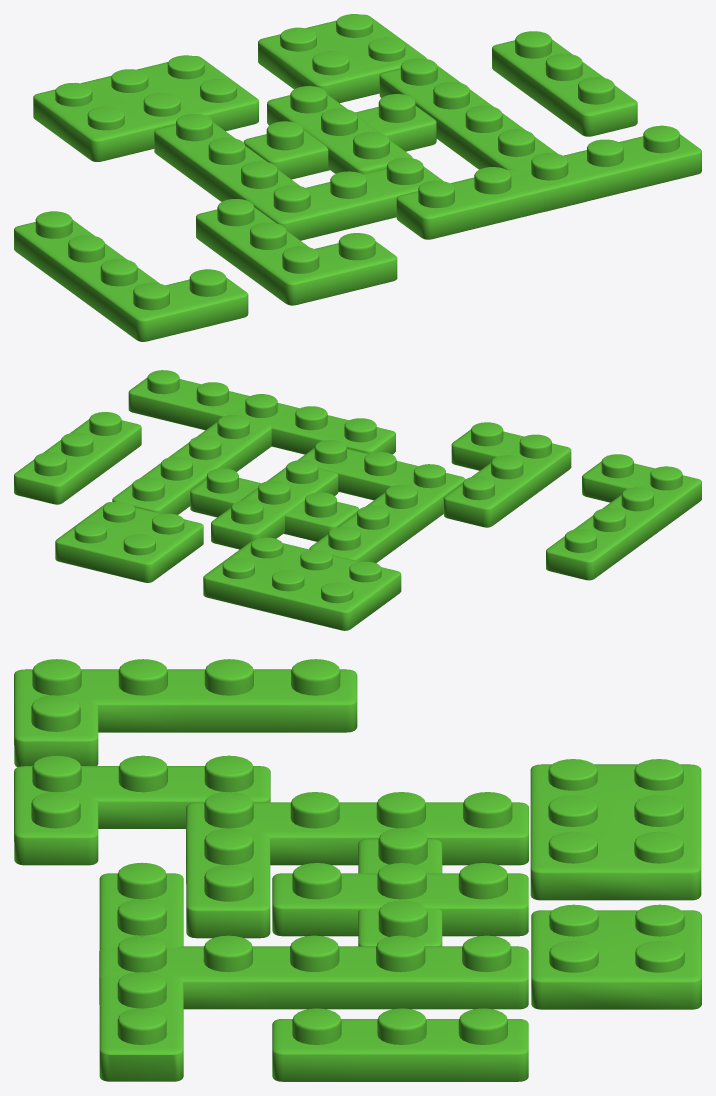
Rendered from Plus_L3x1_L4x1_T_3x1_2x2_3x3.fbx.
3 views of the same model, one above another, from view 1: azimuth 30°, elevation 25°; view 2: azimuth 150°, elevation 25°; view 3: azimuth 270°, elevation 25° (orthographic). The views are drawn at different scales.
Parts seen in each view (by area): view 1: T Block, L Block, 3x3Block, L Block 1x4, Plus Block, L Block 1x3, 2x2Block, 1x3Block; view 2: T Block, 3x3Block, L Block, L Block 1x4, Plus Block, L Block 1x3, 2x2Block, 1x3Block; view 3: T Block, L Block, L Block 1x4, 3x3Block, Plus Block, L Block 1x3, 2x2Block, 1x3Block.
Boxes of the visible parts, x1,y1,x2,y2 form: T Block: [379, 58, 701, 239]; L Block: [154, 114, 443, 240]; 3x3Block: [33, 55, 258, 161]; L Block 1x4: [14, 211, 248, 341]; Plus Block: [243, 86, 436, 179]; L Block 1x3: [196, 199, 397, 305]; 2x2Block: [258, 14, 426, 103]; 1x3Block: [492, 31, 637, 136]; T Block: [112, 370, 395, 514]; 3x3Block: [203, 537, 401, 630]; L Block: [298, 440, 465, 563]; L Block 1x4: [546, 454, 701, 580]; Plus Block: [190, 460, 359, 549]; L Block 1x3: [443, 422, 571, 527]; 2x2Block: [55, 501, 203, 582]; 1x3Block: [14, 412, 141, 504]; T Block: [99, 862, 528, 1081]; L Block: [186, 792, 528, 938]; L Block 1x4: [14, 659, 357, 767]; 3x3Block: [530, 759, 701, 900]; Plus Block: [272, 828, 528, 946]; L Block 1x3: [14, 755, 270, 865]; 2x2Block: [531, 904, 701, 1009]; 1x3Block: [272, 1008, 528, 1081].
Size of the model in its own units: 606 by 35.97 by 455.
